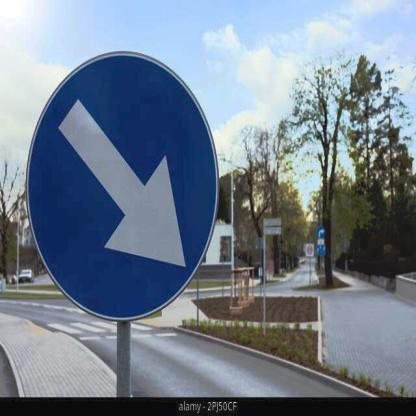Keep right: (27, 51, 223, 320)
